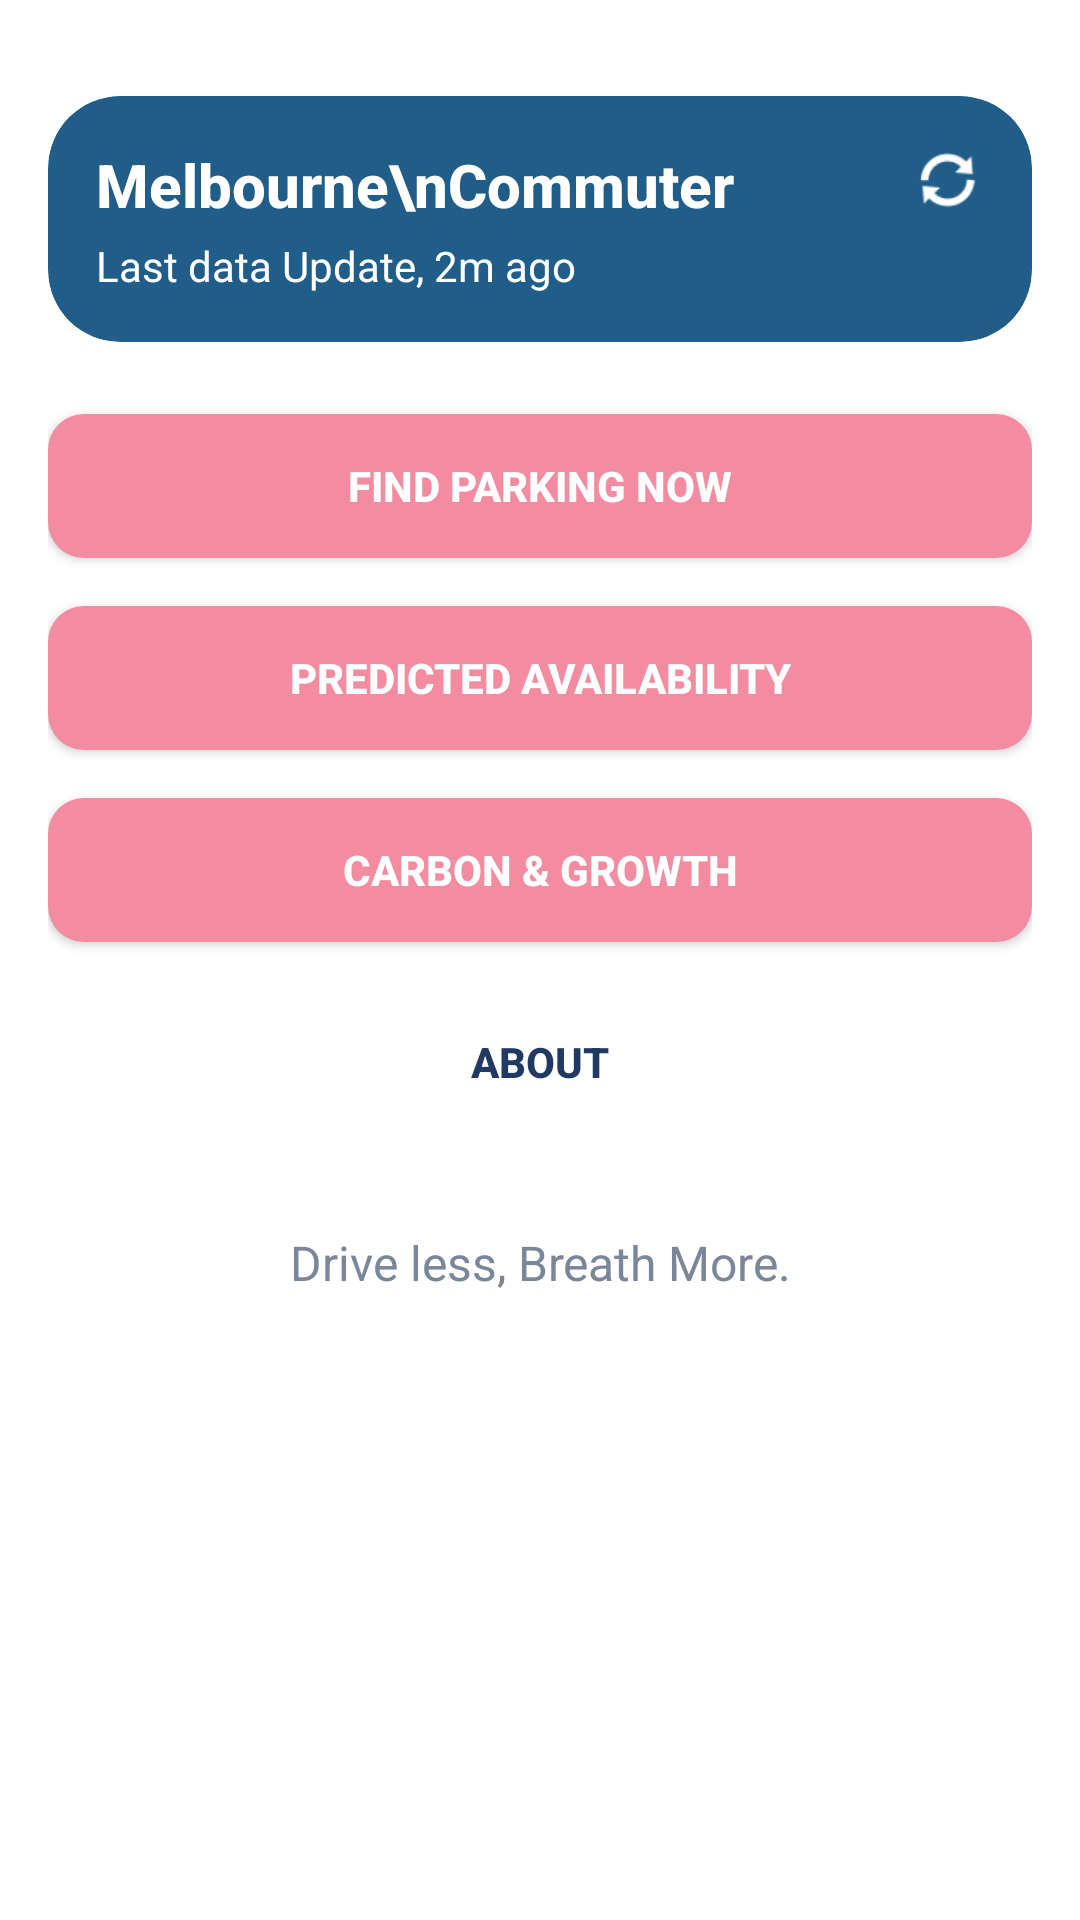

Named icons in this screenshot (1080w x 1920h) and their centers, (x=x, y=y):
popup sync: (x=947, y=180)
